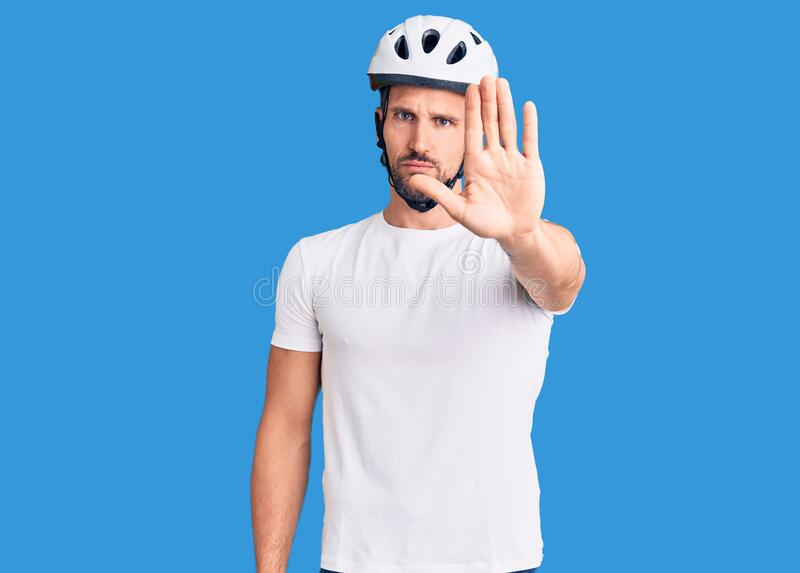helmet: (368, 14, 499, 207)
